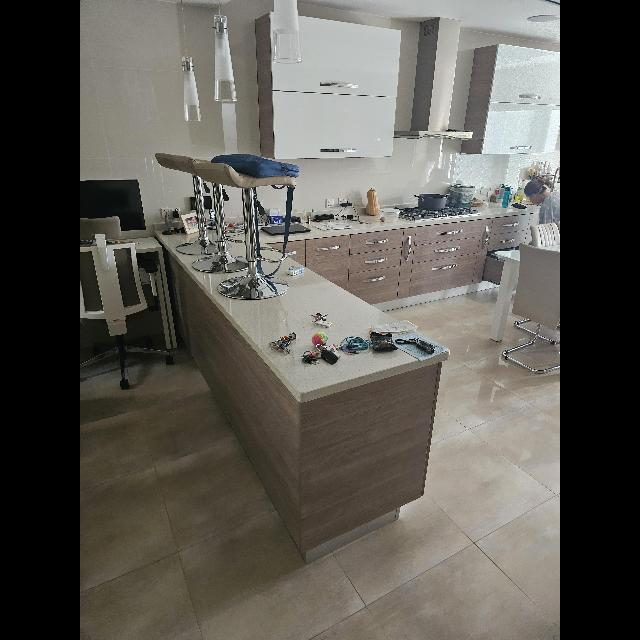Keys: (301, 344, 345, 364), (269, 331, 295, 353), (313, 312, 332, 328)
